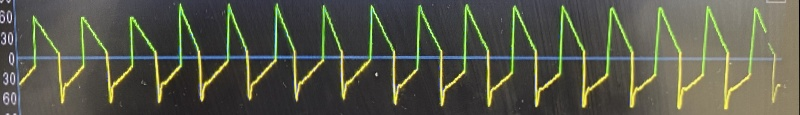peepi: (20, 0, 783, 112)
